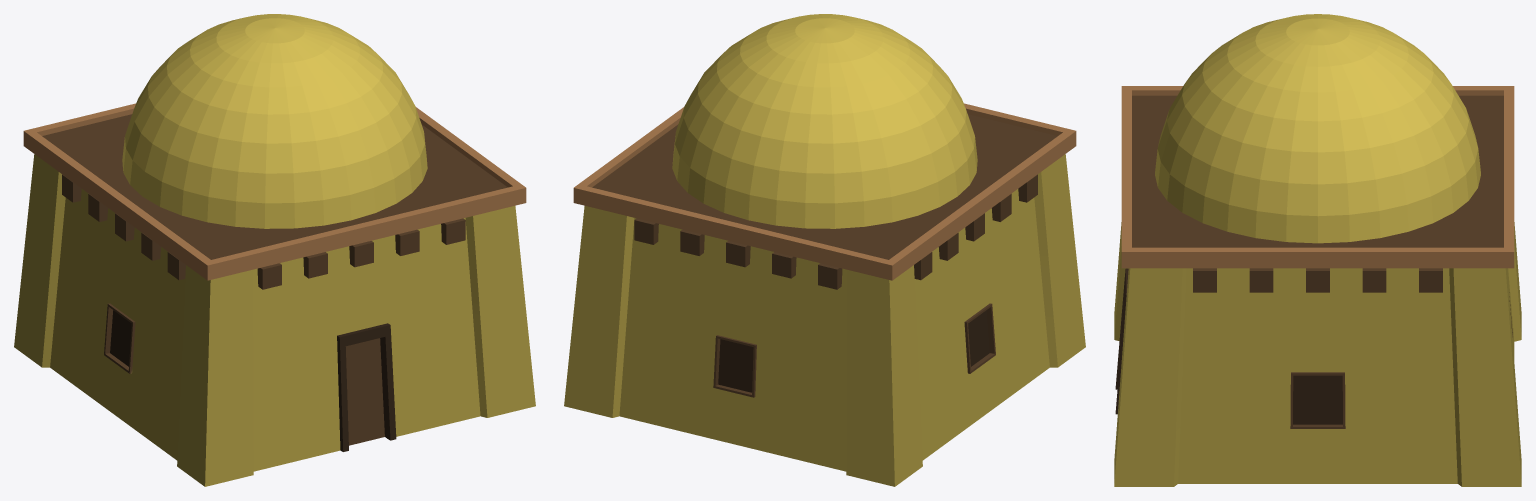
File: pisecnyDumDome.fbx
3 views of the same model, side by side, from view 1: azimuth 30°, elevation 25°; view 2: azimuth 150°, elevation 25°; view 3: azimuth 270°, elevation 25° (orthographic). The views are drawn at different scales.
Visible parts, largest first — view 1: PisecnyDumDome; view 2: PisecnyDumDome; view 3: PisecnyDumDome.
Boxes of the visible parts, x1,y1,x2,y2 form: PisecnyDumDome: (14,14,535,486); PisecnyDumDome: (564,14,1085,486); PisecnyDumDome: (1114,14,1521,486).
Size of the model in its own units: 685 by 689 by 685.
1 material, 1 textured.
